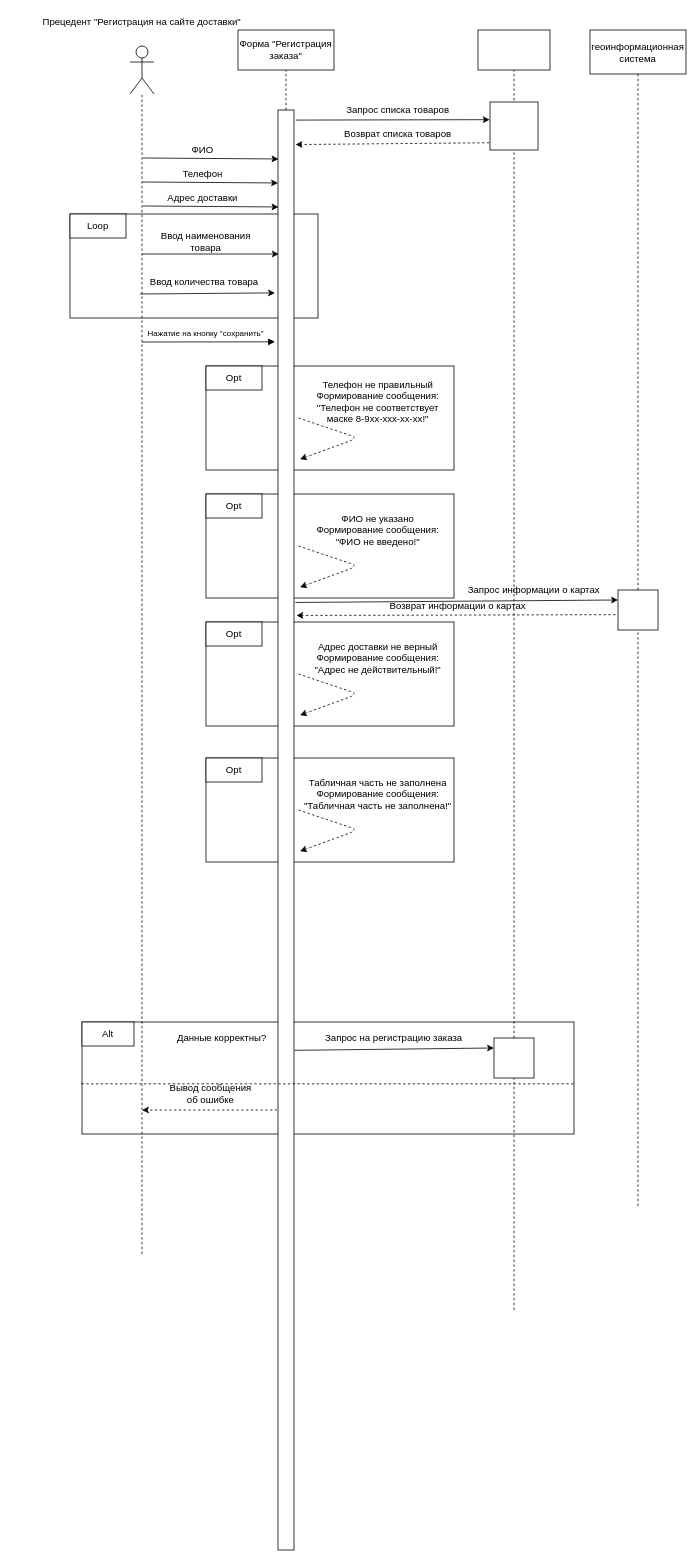
This 700x1564 diagram has some shape labels left out. The centre of each missing label's shape, as x and y in pixels:
"БД" belongs at (x=513, y=49).
"Клиент" belongs at (x=141, y=69).
